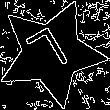L_SE: (25, 24, 78, 82)
